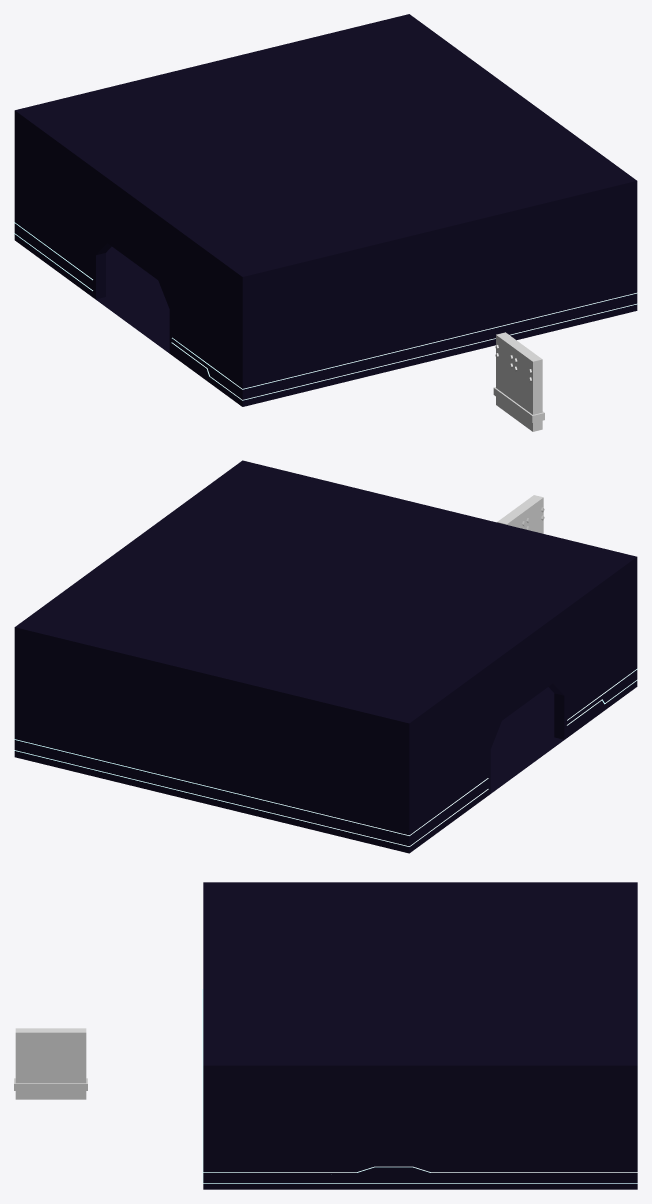
Rendered from Room.glb.
3 views of the same model, one above another, from view 1: azimuth 30°, elevation 25°; view 2: azimuth 150°, elevation 25°; view 3: azimuth 270°, elevation 25° (orthographic). The views are drawn at different scales.
Visible parts, largest first — view 1: Cube, Cube.003, Cube.001, Cube.004; view 2: Cube, Cube.001, Cube.004, Cube.003; view 3: Cube, Cube.003, Cube.001.
Part boxes in pixels (x1,y1,x2,y2): Cube: (14,14,637,406); Cube.003: (493,332,544,431); Cube.001: (14,222,637,400); Cube.004: (93,236,171,354); Cube: (14,460,637,853); Cube.001: (14,668,637,846); Cube.004: (488,677,566,795); Cube.003: (497,495,544,533); Cube: (203,882,637,1189); Cube.003: (14,1028,87,1099); Cube.001: (202,989,637,1183).
Size of the model in its own units: 50.18 by 15.75 by 71.87.
